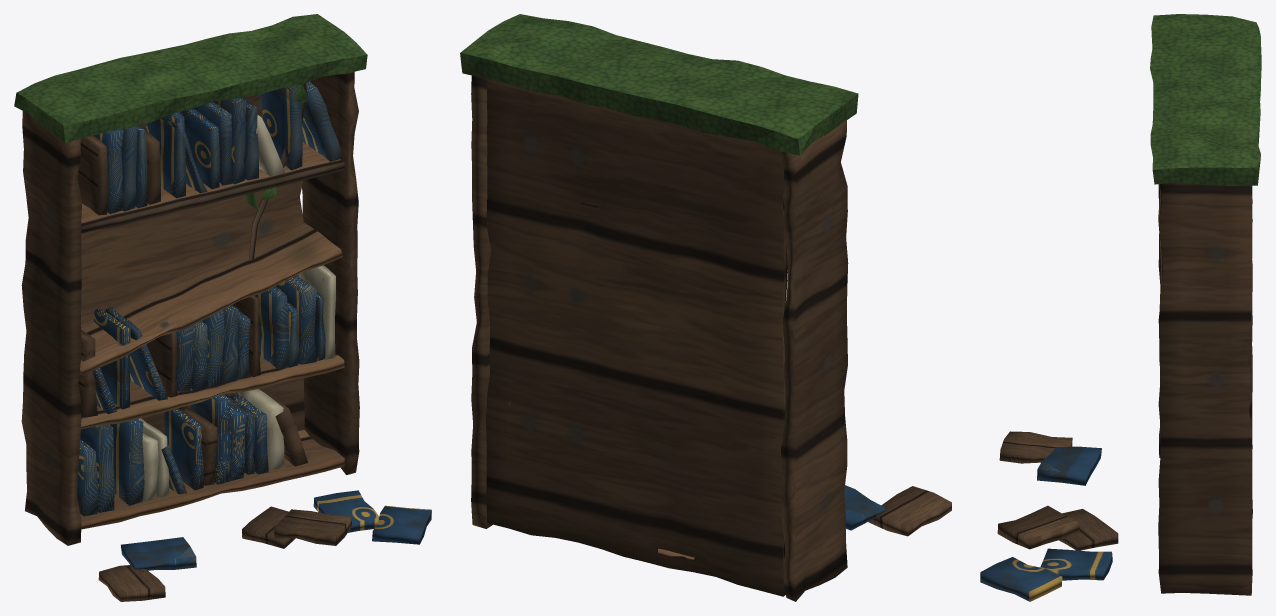
Rendered from ancient_ruin_bookshelf.glb.
The picture shows the model from 3 angles, left to right: view 1: azimuth 30°, elevation 25°; view 2: azimuth 150°, elevation 25°; view 3: azimuth 270°, elevation 25°; orthographic projection. The views are drawn at different scales.
Parts seen in each view (by area): view 1: ancient_ruin_bookshelf__wood_dark, ancient_ruin_bookshelf__cloth, ancient_ruin_bookshelf__wood, ancient_ruin_bookshelf__moss, ancient_ruin_bookshelf__bone, ancient_ruin_bookshelf__root; view 2: ancient_ruin_bookshelf__wood_dark, ancient_ruin_bookshelf__moss, ancient_ruin_bookshelf__cloth; view 3: ancient_ruin_bookshelf__wood_dark, ancient_ruin_bookshelf__moss, ancient_ruin_bookshelf__cloth.
Boxes of the visible parts, bbox=[...] form: ancient_ruin_bookshelf__wood_dark: bbox=[21, 71, 359, 601]; ancient_ruin_bookshelf__cloth: bbox=[77, 82, 431, 570]; ancient_ruin_bookshelf__wood: bbox=[79, 142, 344, 529]; ancient_ruin_bookshelf__moss: bbox=[14, 14, 367, 143]; ancient_ruin_bookshelf__bone: bbox=[138, 115, 335, 501]; ancient_ruin_bookshelf__root: bbox=[248, 83, 306, 260]; ancient_ruin_bookshelf__wood_dark: bbox=[471, 75, 951, 601]; ancient_ruin_bookshelf__moss: bbox=[460, 14, 858, 155]; ancient_ruin_bookshelf__cloth: bbox=[844, 485, 885, 530]; ancient_ruin_bookshelf__wood_dark: bbox=[997, 182, 1252, 595]; ancient_ruin_bookshelf__moss: bbox=[1150, 14, 1261, 185]; ancient_ruin_bookshelf__cloth: bbox=[980, 446, 1112, 601].
Size of the model in its own units: 1.8 by 2.31 by 1.34.
Materials: 7 (7 with a texture image).
